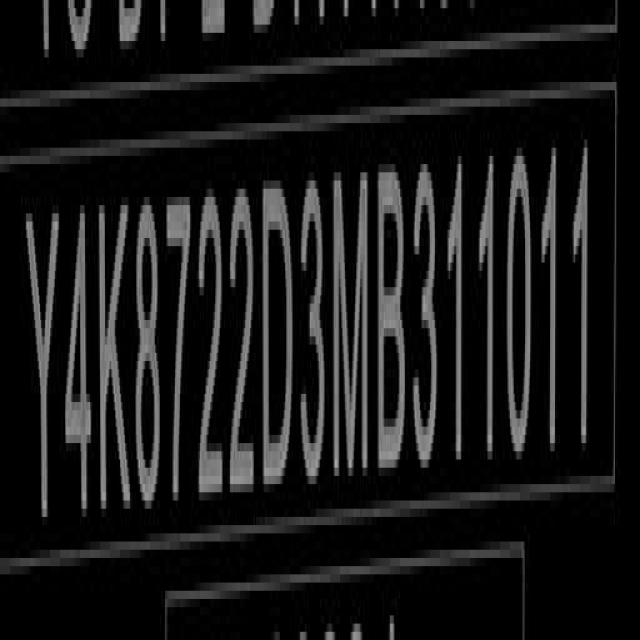0: (505, 138, 533, 475)
1: (568, 124, 594, 480), (539, 128, 564, 475), (449, 146, 472, 477), (476, 145, 498, 475)
2: (228, 179, 258, 510), (198, 184, 225, 514)
3: (302, 172, 330, 492), (414, 152, 440, 478)
4: (62, 194, 92, 536)
7: (166, 182, 193, 517)
8: (135, 189, 162, 520)
B: (380, 156, 410, 480)
D: (260, 170, 295, 497)
K: (98, 193, 132, 531)
M: (333, 158, 372, 486)
Y: (24, 197, 61, 550)
